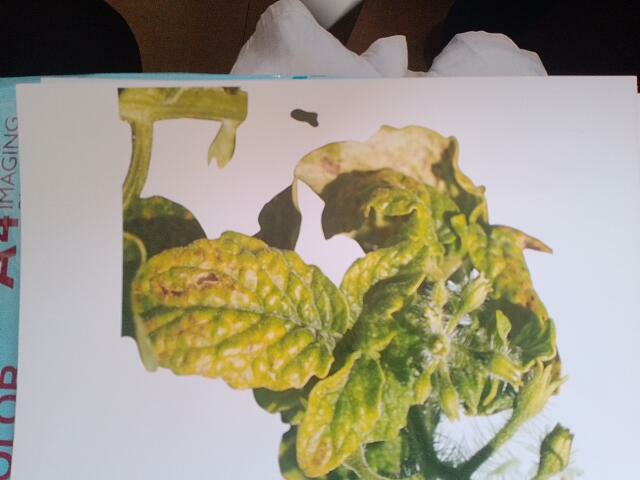Grape_Blight_Leaf: (230, 47, 563, 332)
